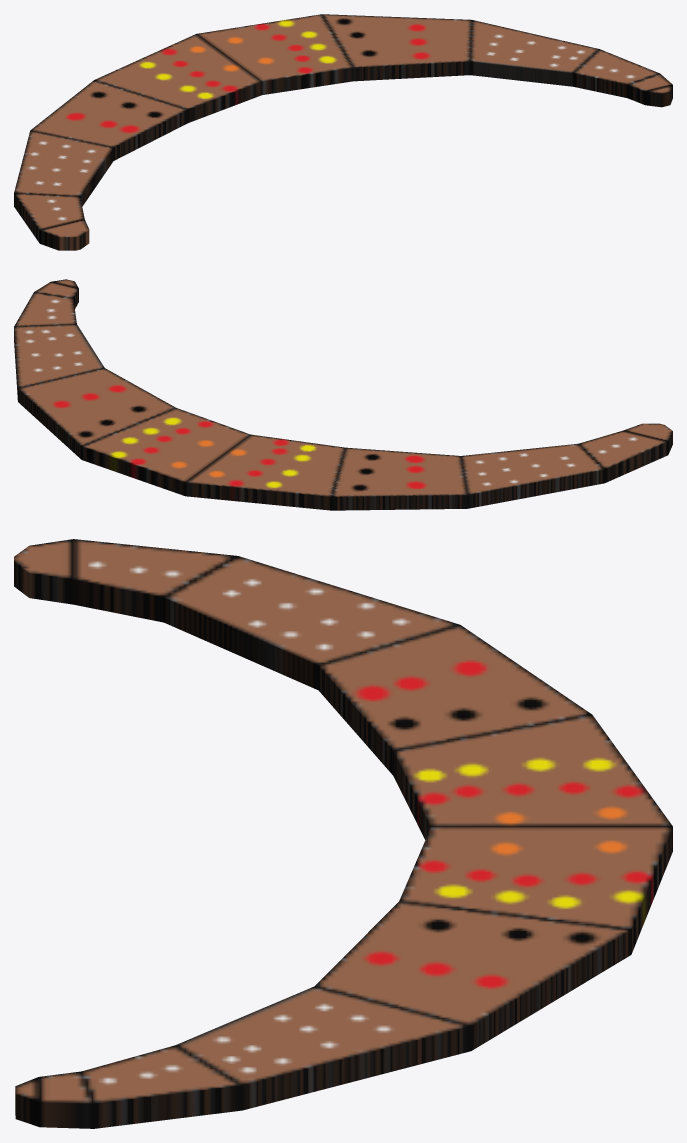
The model's file is boomerang.glb.
The picture shows the model from 3 angles, top to bottom: view 1: azimuth 30°, elevation 25°; view 2: azimuth 150°, elevation 25°; view 3: azimuth 270°, elevation 25°; orthographic projection. The views are drawn at different scales.
Parts seen in each view (by area): view 1: Plane; view 2: Plane; view 3: Plane.
Part boxes in pixels (left/top/right/bottom): Plane: left=14, top=14, right=672, bottom=250; Plane: left=14, top=279, right=672, bottom=510; Plane: left=14, top=539, right=672, bottom=1128.
Bounding box in the file's own units: 41.3 × 0.8534 × 20.36.
Materials: 1 (1 with a texture image).
